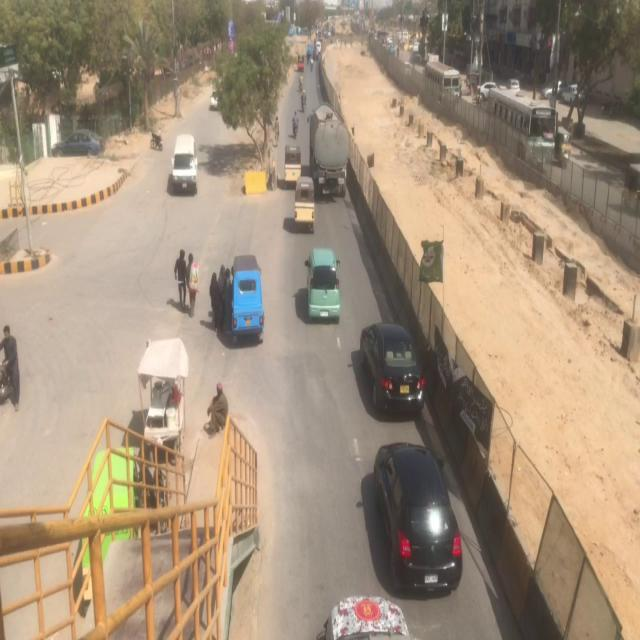car: (369, 437, 469, 608), (356, 313, 431, 426), (304, 245, 347, 332)
motorbike: (290, 108, 301, 140), (299, 90, 309, 113), (310, 57, 316, 73)
truck: (308, 102, 351, 196)
